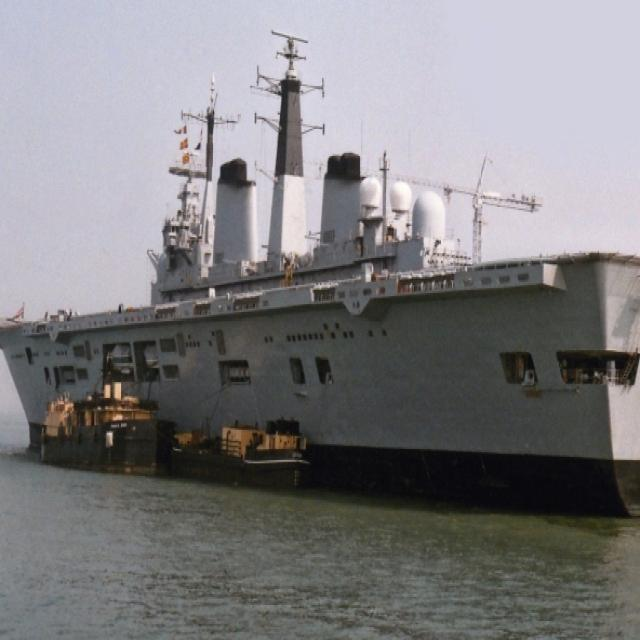Portanaves: (1, 17, 640, 539)
